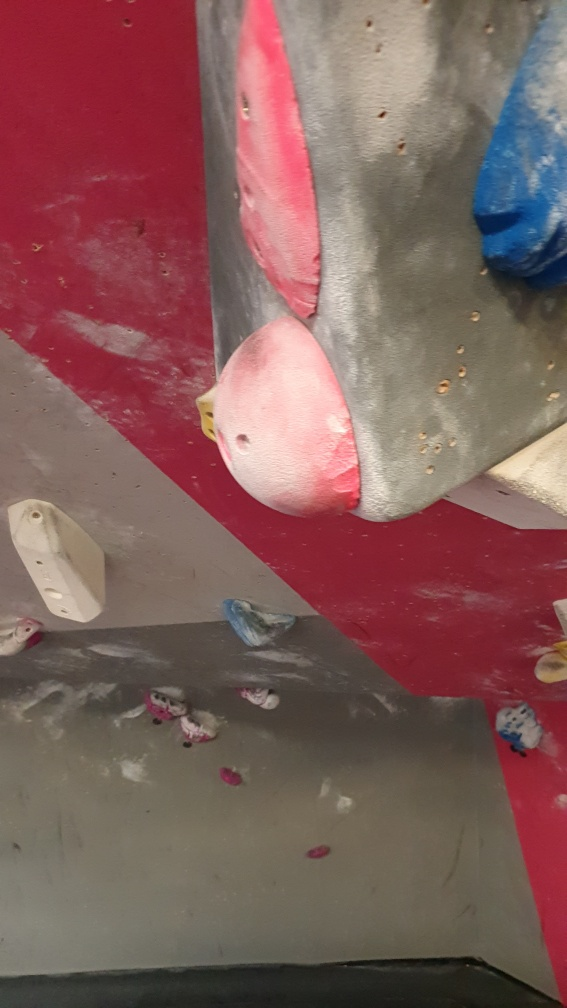Jug: (223, 602, 298, 651)
Pinch: (8, 495, 111, 627)
Sloper: (211, 315, 362, 521)
